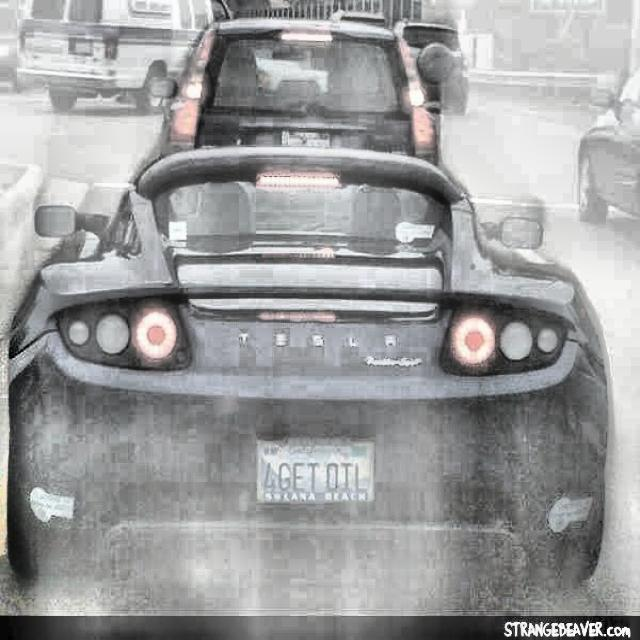license_plate: (255, 441, 374, 506)
